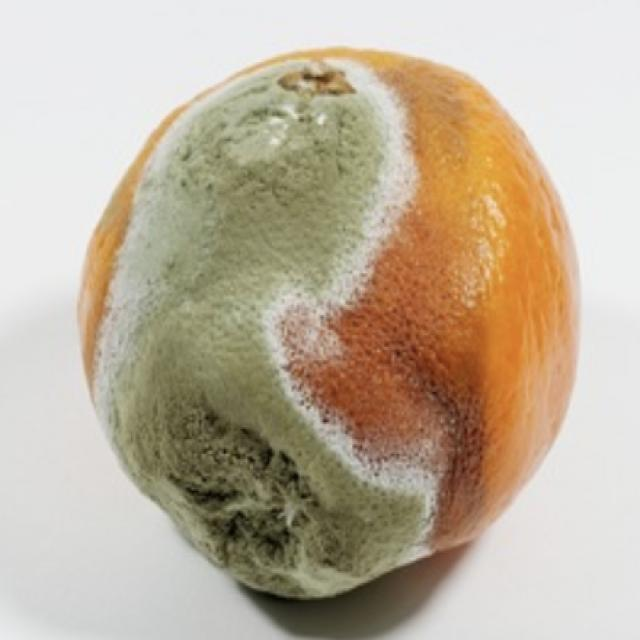rotten-orange: (74, 51, 582, 609)
